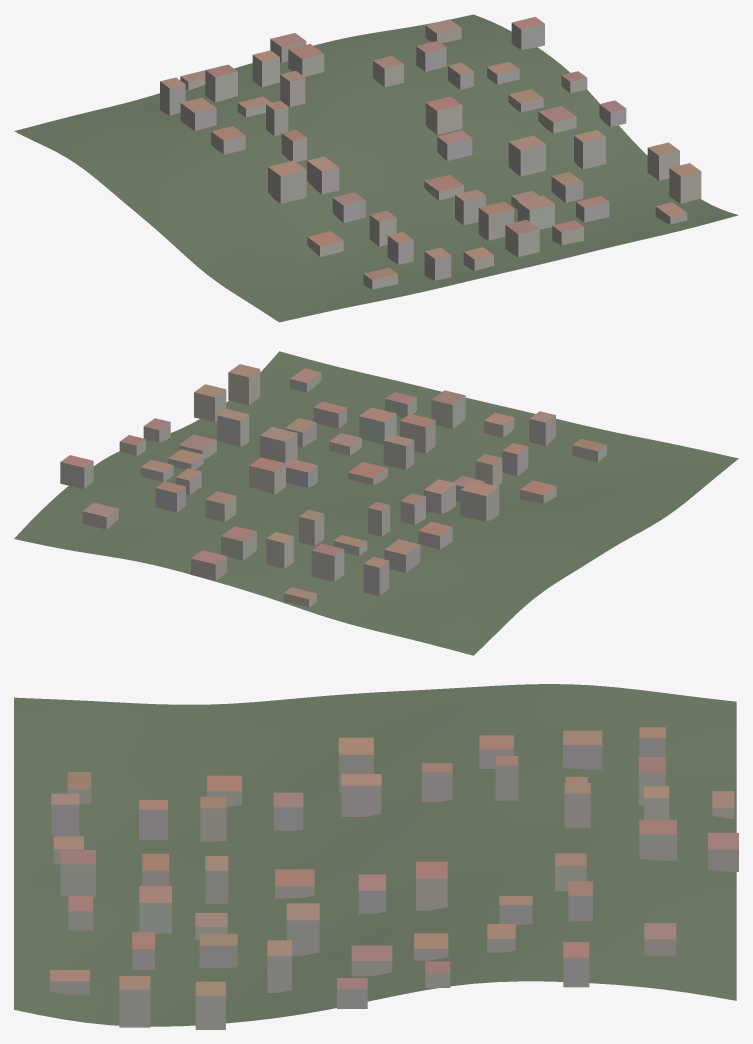
3 views of the same model, one above another, from view 1: azimuth 30°, elevation 25°; view 2: azimuth 150°, elevation 25°; view 3: azimuth 270°, elevation 25° (orthographic). The views are drawn at different scales.
Size of the model in its own units: 305 by 37.82 by 301.
